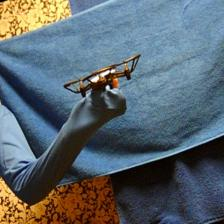drone: (65, 53, 142, 96)
